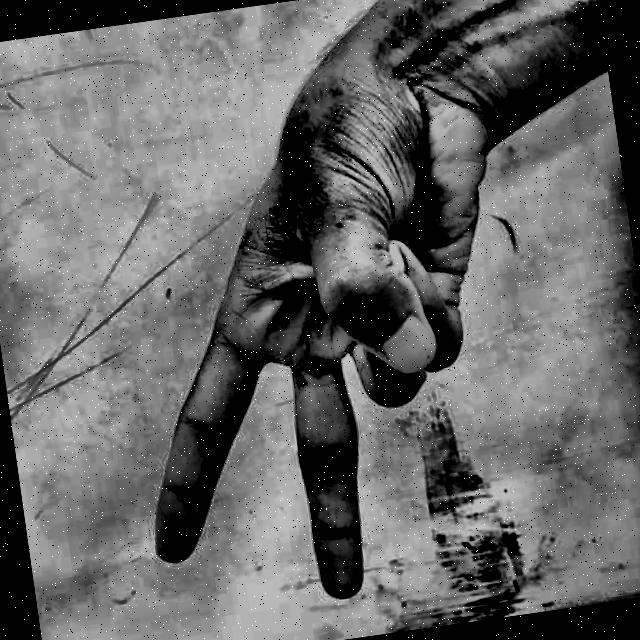Pa: (66, 25, 572, 640)
